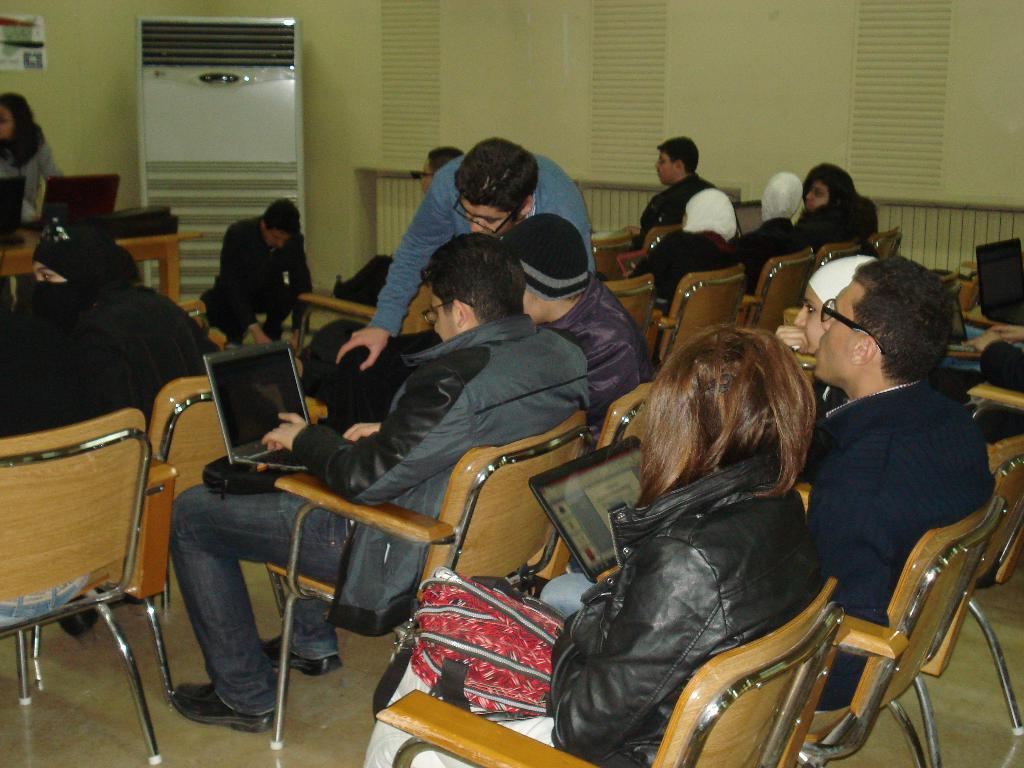Laptop: (202, 341, 313, 473)
